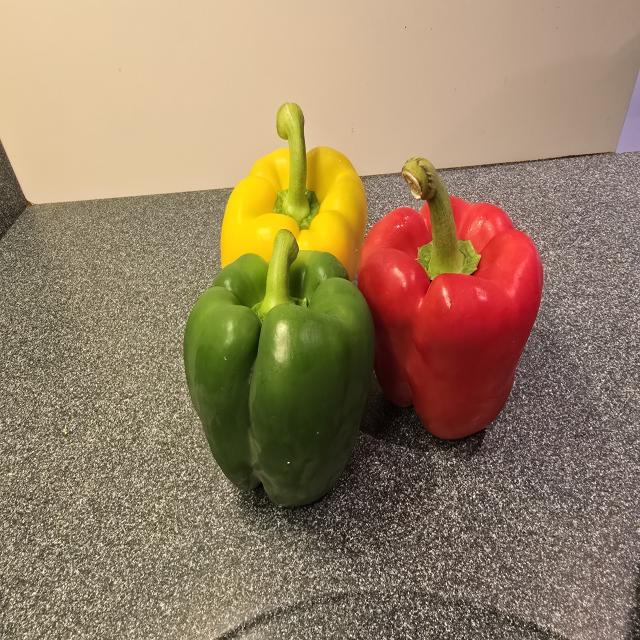Bell Pepper: (180, 225, 377, 511), (354, 156, 546, 444), (219, 99, 370, 281)
